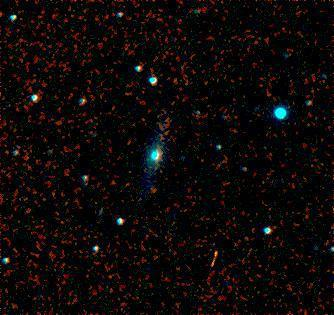star: (15, 196, 45, 226)
